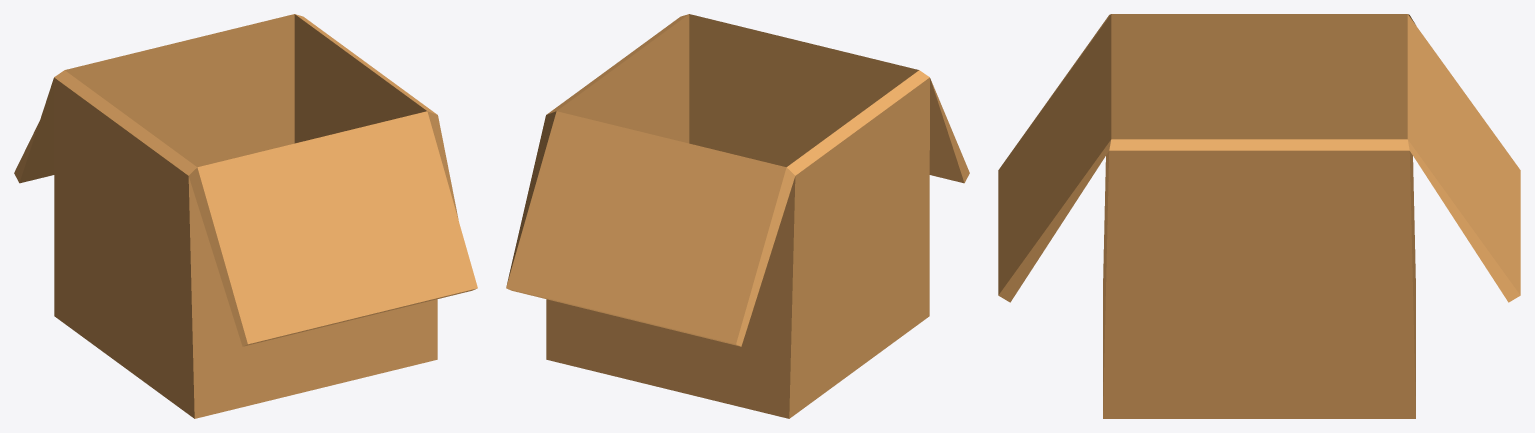
Rendered from carton2.fbx.
3 views of the same model, side by side, from view 1: azimuth 30°, elevation 25°; view 2: azimuth 150°, elevation 25°; view 3: azimuth 270°, elevation 25° (orthographic). The views are drawn at different scales.
Visible parts, largest first — view 1: Cube.016; view 2: Cube.016; view 3: Cube.016.
Boxes of the visible parts, bbox=[...] form: Cube.016: bbox=[14, 14, 477, 418]; Cube.016: bbox=[506, 14, 969, 418]; Cube.016: bbox=[998, 14, 1520, 418].
Size of the model in its own units: 358 by 339 by 581.
1 material, 1 textured.
